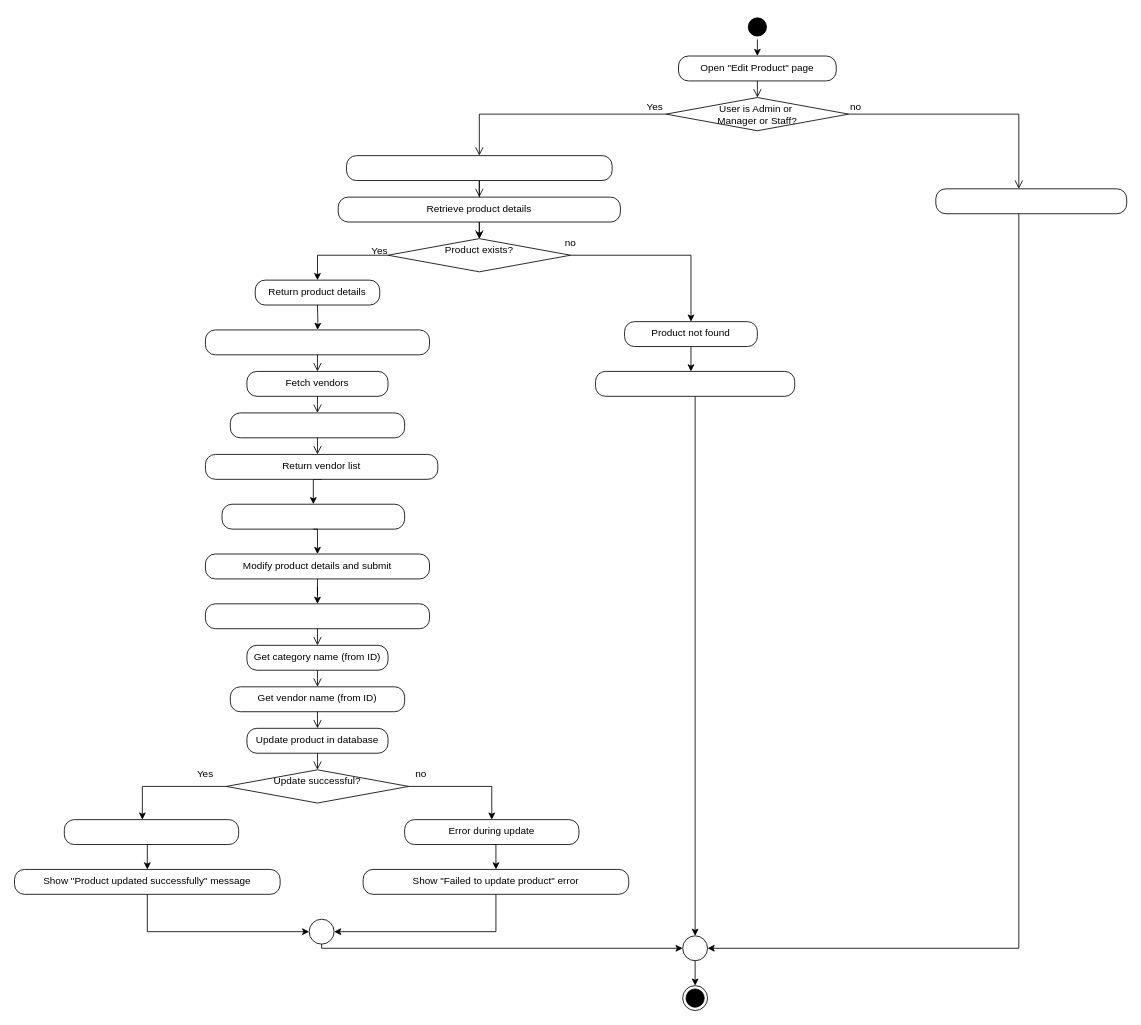
Image size: 1141x1025. Some labels were removed from this diagram. The centre of each missing label's shape, as x and y in pixels:
Display product, categories, and vendors: [313,516]
Fetch categories: [317,342]
Fetch product details (ID: id): [479,168]
Product updated: [151,832]
Return category list: [317,425]
Send updated product details: [317,616]
Show "Access Denied" error: [1031,201]
Show "Product not found" error: [695,383]
